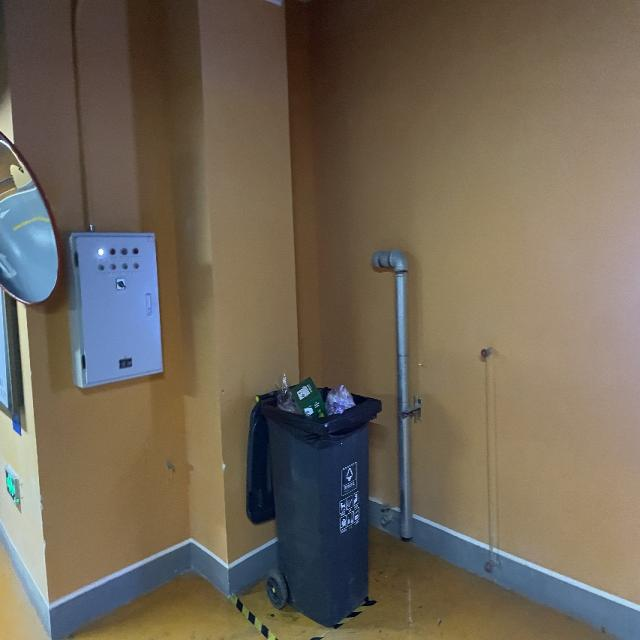overflow: (244, 371, 380, 626)
